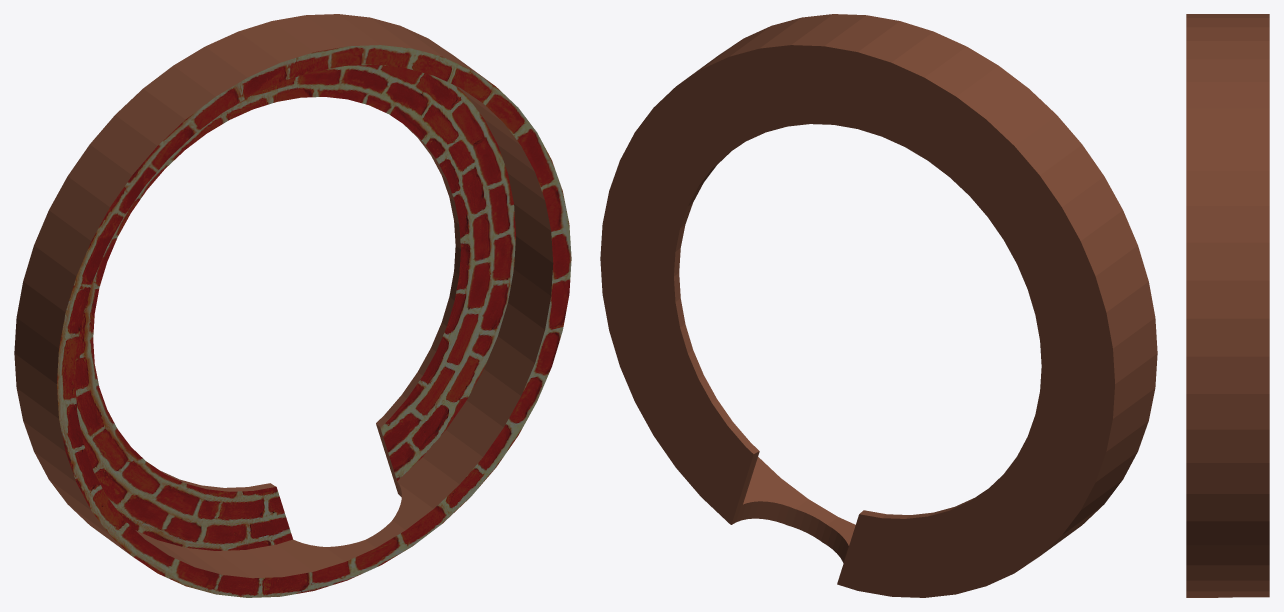
The model's file is pool_083.obj.
The picture shows the model from 3 angles, left to right: view 1: azimuth 30°, elevation 25°; view 2: azimuth 150°, elevation 25°; view 3: azimuth 270°, elevation 25°; orthographic projection.
Size of the model in its own units: 28 by 28 by 4.
